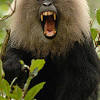monkey: (13, 2, 84, 84)
